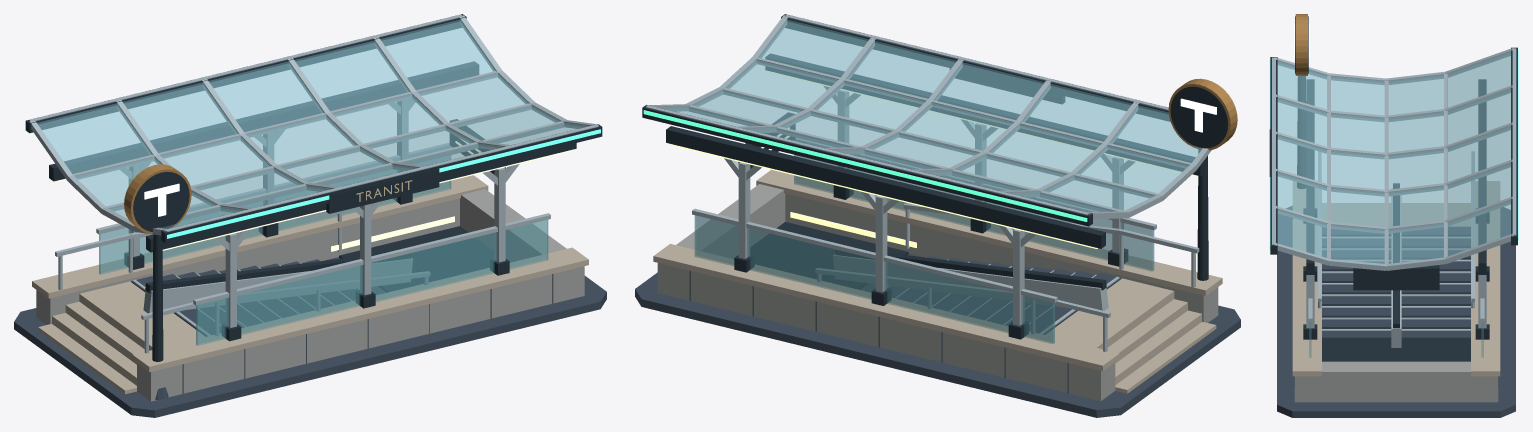
Rendered from headhouse_modern.glb.
3 views of the same model, side by side, from view 1: azimuth 30°, elevation 25°; view 2: azimuth 150°, elevation 25°; view 3: azimuth 270°, elevation 25° (orthographic). The views are drawn at different scales.
Parts seen in each view (by area): view 1: headhouse_modern.GlassRoof, headhouse_modern.Alloy, headhouse_modern.Iron, headhouse_modern.Coping, headhouse_modern.Concrete, headhouse_modern.Glass, headhouse_modern.Slate, headhouse_modern.LineAccent, headhouse_modern.WarmLight, headhouse_modern.Bronze; view 2: headhouse_modern.GlassRoof, headhouse_modern.Alloy, headhouse_modern.Iron, headhouse_modern.Coping, headhouse_modern.Concrete, headhouse_modern.Glass, headhouse_modern.Slate, headhouse_modern.WarmLight, headhouse_modern.LineAccent, headhouse_modern.Bronze; view 3: headhouse_modern.GlassRoof, headhouse_modern.Slate, headhouse_modern.Alloy, headhouse_modern.Iron, headhouse_modern.Coping, headhouse_modern.Concrete, headhouse_modern.Bronze, headhouse_modern.LineAccent.
Part boxes in pixels (x1,y1,x2,y2): headhouse_modern.GlassRoof: [37, 20, 587, 228]; headhouse_modern.Alloy: [29, 14, 598, 353]; headhouse_modern.Iron: [25, 14, 602, 361]; headhouse_modern.Coping: [32, 175, 588, 394]; headhouse_modern.Concrete: [36, 189, 584, 401]; headhouse_modern.Glass: [99, 155, 548, 345]; headhouse_modern.Slate: [14, 257, 606, 417]; headhouse_modern.LineAccent: [167, 129, 600, 238]; headhouse_modern.WarmLight: [57, 139, 570, 251]; headhouse_modern.Bronze: [124, 164, 191, 234]; headhouse_modern.GlassRoof: [657, 19, 1202, 212]; headhouse_modern.Alloy: [646, 14, 1211, 351]; headhouse_modern.Iron: [642, 14, 1228, 339]; headhouse_modern.Coping: [653, 170, 1222, 393]; headhouse_modern.Concrete: [657, 184, 1218, 401]; headhouse_modern.Glass: [694, 154, 1154, 343]; headhouse_modern.Slate: [635, 253, 1240, 417]; headhouse_modern.WarmLight: [671, 72, 1196, 248]; headhouse_modern.LineAccent: [643, 110, 1087, 221]; headhouse_modern.Bronze: [1168, 78, 1237, 150]; headhouse_modern.GlassRoof: [1277, 52, 1510, 263]; headhouse_modern.Slate: [1277, 206, 1515, 417]; headhouse_modern.Alloy: [1272, 47, 1516, 347]; headhouse_modern.Iron: [1269, 16, 1517, 361]; headhouse_modern.Coping: [1292, 181, 1500, 376]; headhouse_modern.Concrete: [1294, 361, 1498, 402]; headhouse_modern.Bronze: [1295, 14, 1307, 75]; headhouse_modern.LineAccent: [1269, 50, 1518, 249].
Size of the model in its own units: 10.8 by 5.14 by 5.53.
